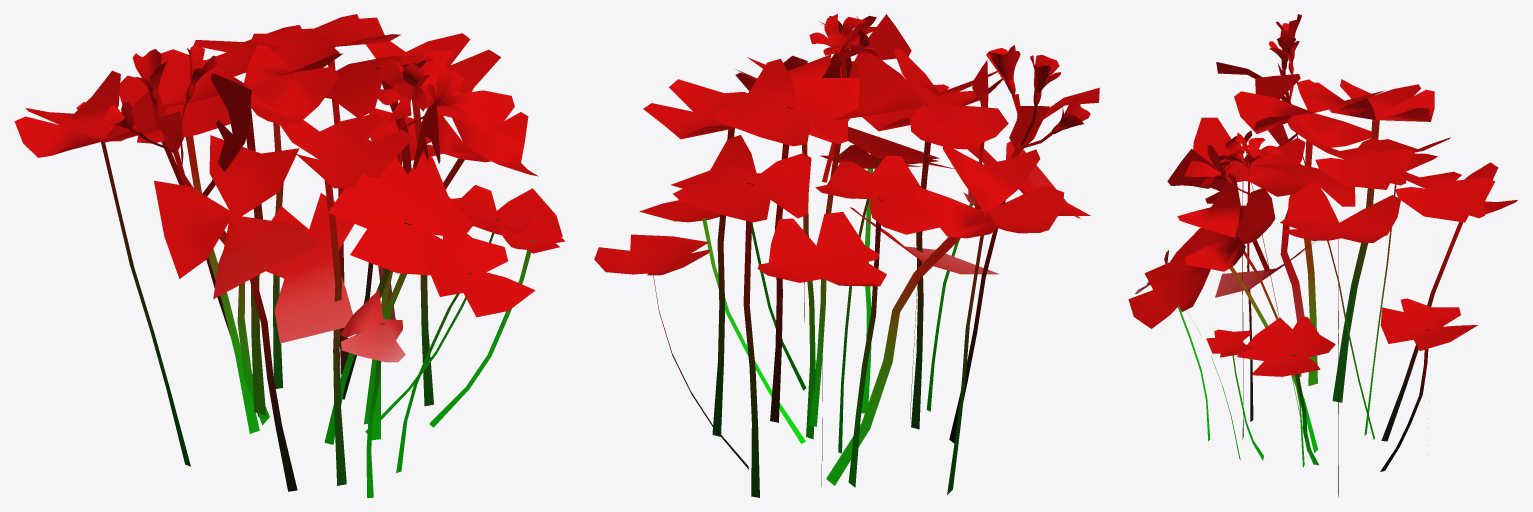
File: Var3_LOD0.fbx
3 renders of one model, left to right at view 1: azimuth 30°, elevation 25°; view 2: azimuth 150°, elevation 25°; view 3: azimuth 270°, elevation 25°, orthographic. The views are drawn at different scales.
Visible parts, largest first — view 1: _de54_Var3_LOD0; view 2: _de54_Var3_LOD0; view 3: _de54_Var3_LOD0.
Part boxes in pixels (left/top/right/bottom): _de54_Var3_LOD0: left=14, top=14, right=564, bottom=497; _de54_Var3_LOD0: left=594, top=14, right=1099, bottom=497; _de54_Var3_LOD0: left=1128, top=14, right=1517, bottom=497.
Bounding box in the file's own units: 26.34 × 24.47 × 23.98.
